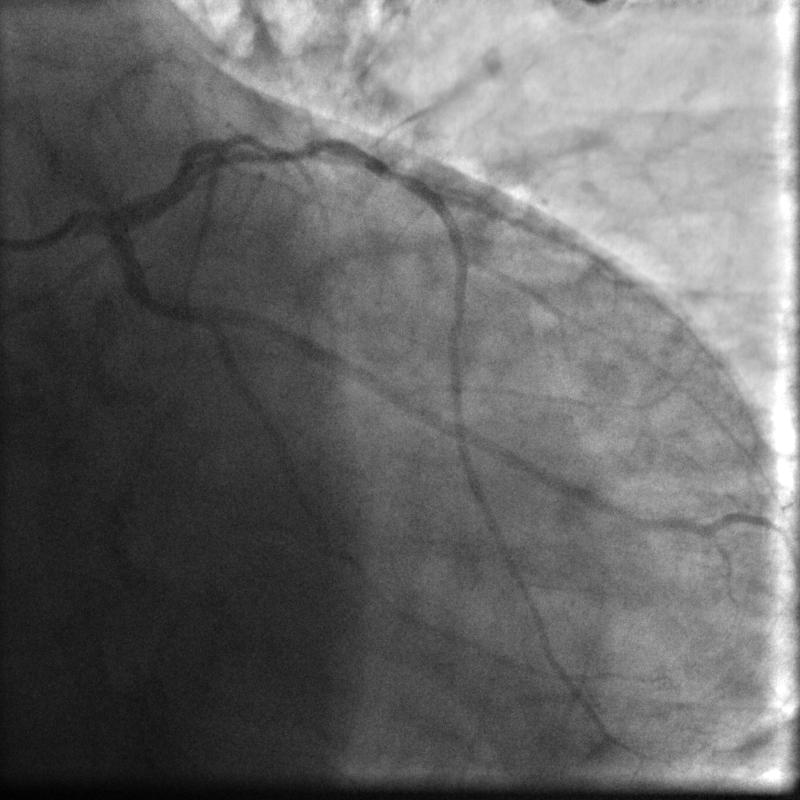Stenosis: (255, 131, 349, 160)
